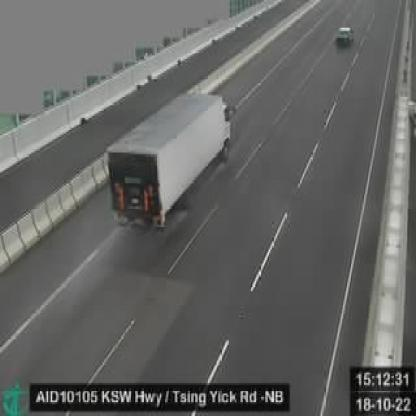Car: (334, 24, 354, 48)
Truck: (106, 92, 232, 233)
